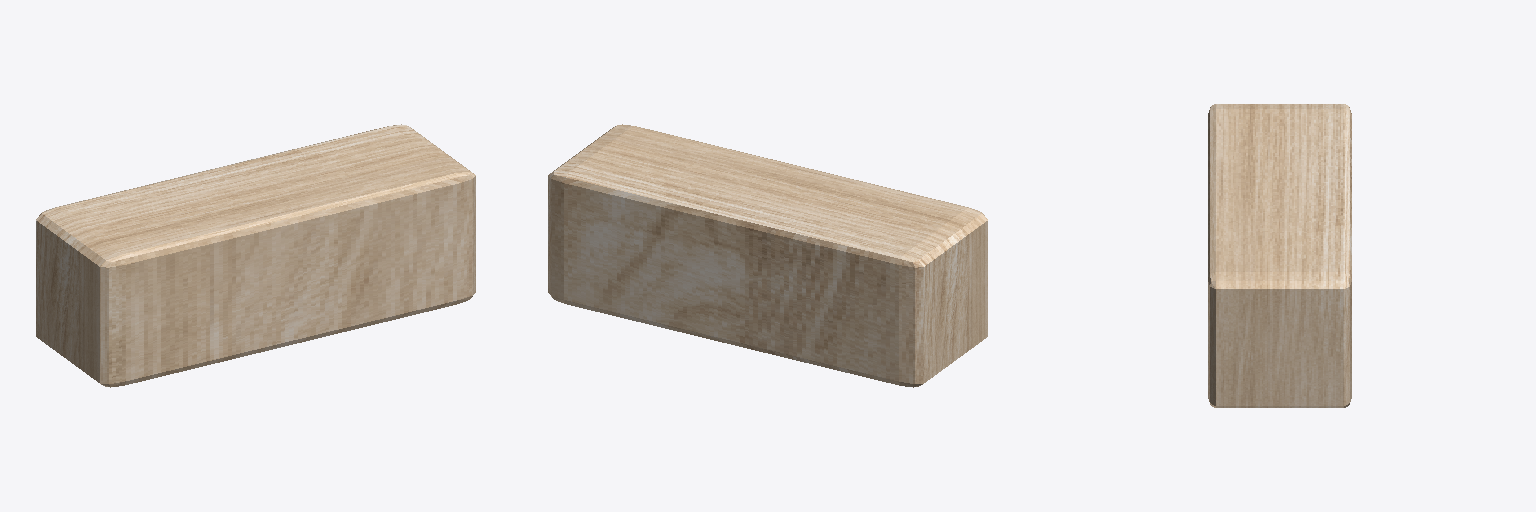
The picture shows the model from 3 angles: view 1: azimuth 30°, elevation 25°; view 2: azimuth 150°, elevation 25°; view 3: azimuth 270°, elevation 25°; orthographic projection.
Visible parts, largest first — view 1: Cube; view 2: Cube; view 3: Cube.
Boxes of the visible parts, x1,y1,x2,y2 form: Cube: [36, 124, 475, 387]; Cube: [548, 124, 987, 387]; Cube: [1208, 104, 1351, 407].
Size of the model in its own units: 0.1 by 0.0333 by 0.0333.
Materials: 1 (1 with a texture image).